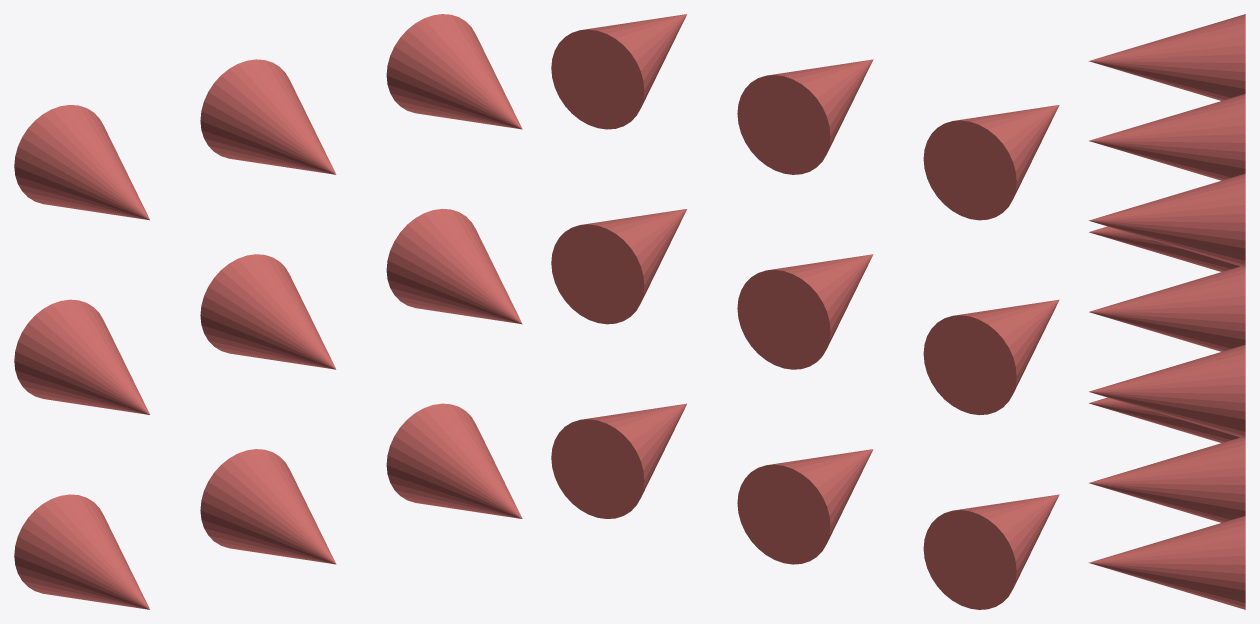
File: tomato_grid.glb
3 views of the same model, side by side, from view 1: azimuth 30°, elevation 25°; view 2: azimuth 150°, elevation 25°; view 3: azimuth 270°, elevation 25° (orthographic). The views are drawn at different scales.
Parts seen in each view (by area): view 1: geometry_0, geometry_8, geometry_5, geometry_1, geometry_6, geometry_7, geometry_3, geometry_2, geometry_4; view 2: geometry_8, geometry_0, geometry_3, geometry_1, geometry_2, geometry_7, geometry_5, geometry_6, geometry_4; view 3: geometry_6, geometry_7, geometry_8, geometry_2, geometry_5, geometry_4, geometry_3, geometry_1, geometry_0.
Part boxes in pixels (bbox=[...]): geometry_0: bbox=[14, 494, 149, 609]; geometry_8: bbox=[386, 14, 522, 129]; geometry_5: bbox=[200, 59, 336, 174]; geometry_1: bbox=[14, 299, 149, 414]; geometry_6: bbox=[386, 403, 522, 518]; geometry_7: bbox=[386, 208, 522, 324]; geometry_3: bbox=[200, 449, 336, 564]; geometry_2: bbox=[14, 105, 149, 220]; geometry_4: bbox=[200, 254, 336, 369]; geometry_8: bbox=[551, 14, 686, 129]; geometry_0: bbox=[923, 494, 1059, 609]; geometry_3: bbox=[737, 449, 873, 564]; geometry_1: bbox=[923, 299, 1059, 415]; geometry_2: bbox=[923, 105, 1059, 220]; geometry_7: bbox=[551, 209, 686, 324]; geometry_5: bbox=[737, 59, 873, 174]; geometry_6: bbox=[551, 403, 686, 518]; geometry_4: bbox=[737, 254, 873, 369]; geometry_6: bbox=[1088, 516, 1245, 609]; geometry_7: bbox=[1089, 344, 1245, 438]; geometry_8: bbox=[1089, 173, 1245, 267]; geometry_2: bbox=[1088, 14, 1245, 100]; geometry_5: bbox=[1089, 94, 1245, 180]; geometry_4: bbox=[1089, 266, 1245, 351]; geometry_3: bbox=[1089, 437, 1245, 522]; geometry_1: bbox=[1089, 226, 1239, 271]; geometry_0: bbox=[1089, 397, 1239, 442].
Size of the model in its own units: 1.5 by 1.5 by 0.5.
